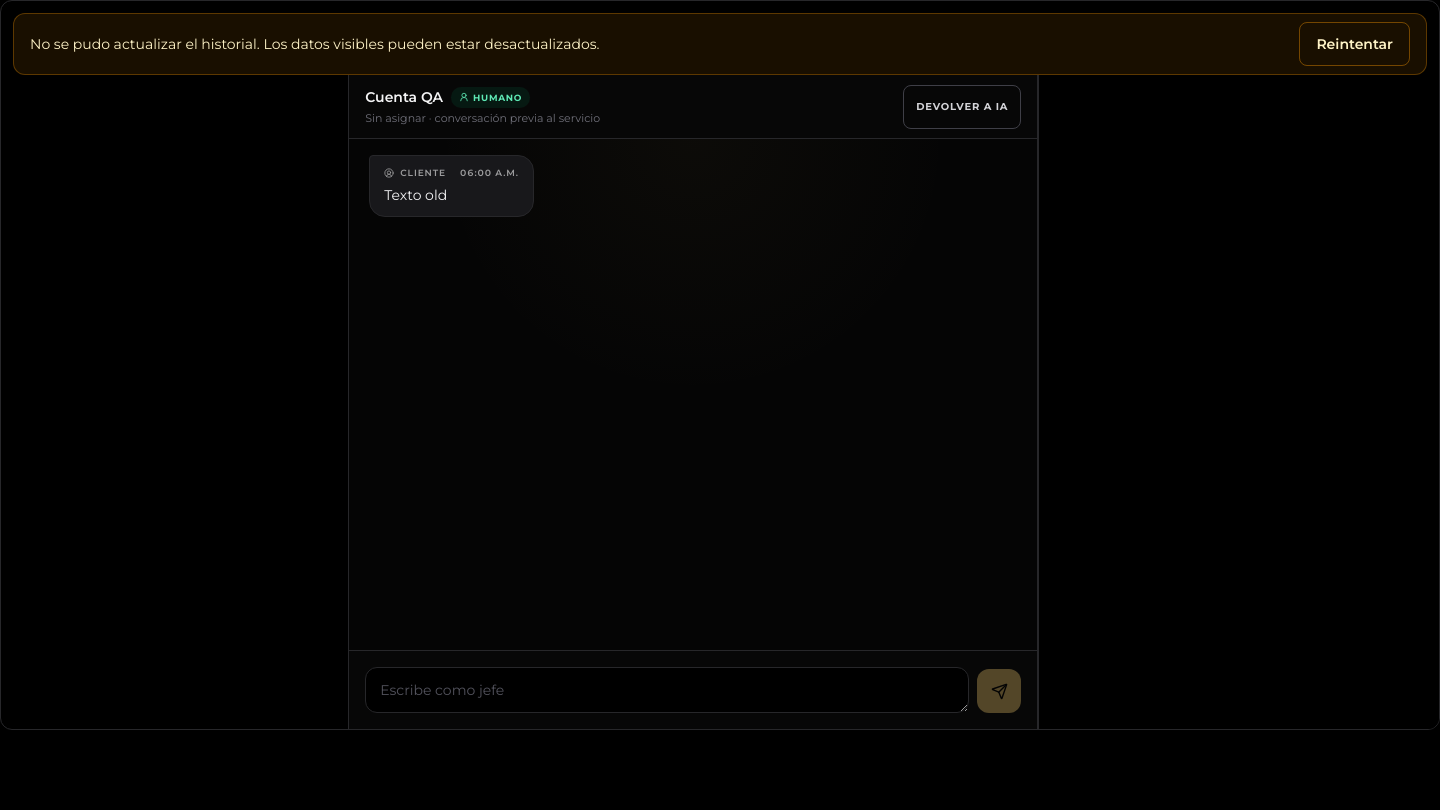
avisa del fallo de lectura y permite reintentar sin vaciar el historial visible
Check: the message shows "pueden estar desactualizados", box [30,35,600,53]
Check: the text "Texto old" is shown, box [384,186,447,204]
Click the button "Reintentar": (1355, 44) [1299,22,1410,66]
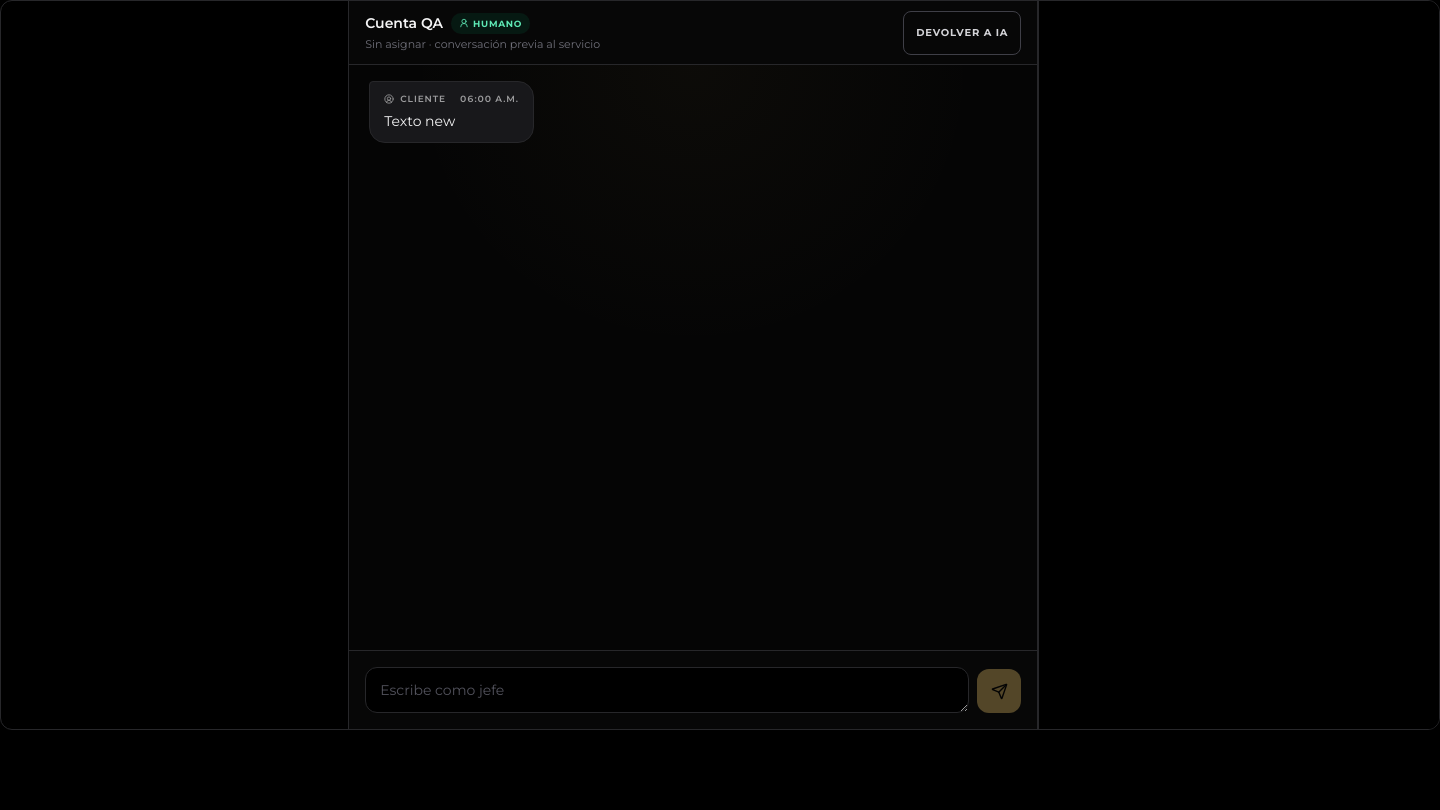
Check: the message is gone
Check: the text "Texto new" is shown, box [384,112,455,130]
